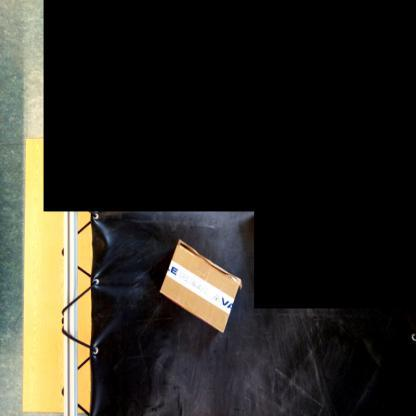package: (160, 237, 242, 333)
